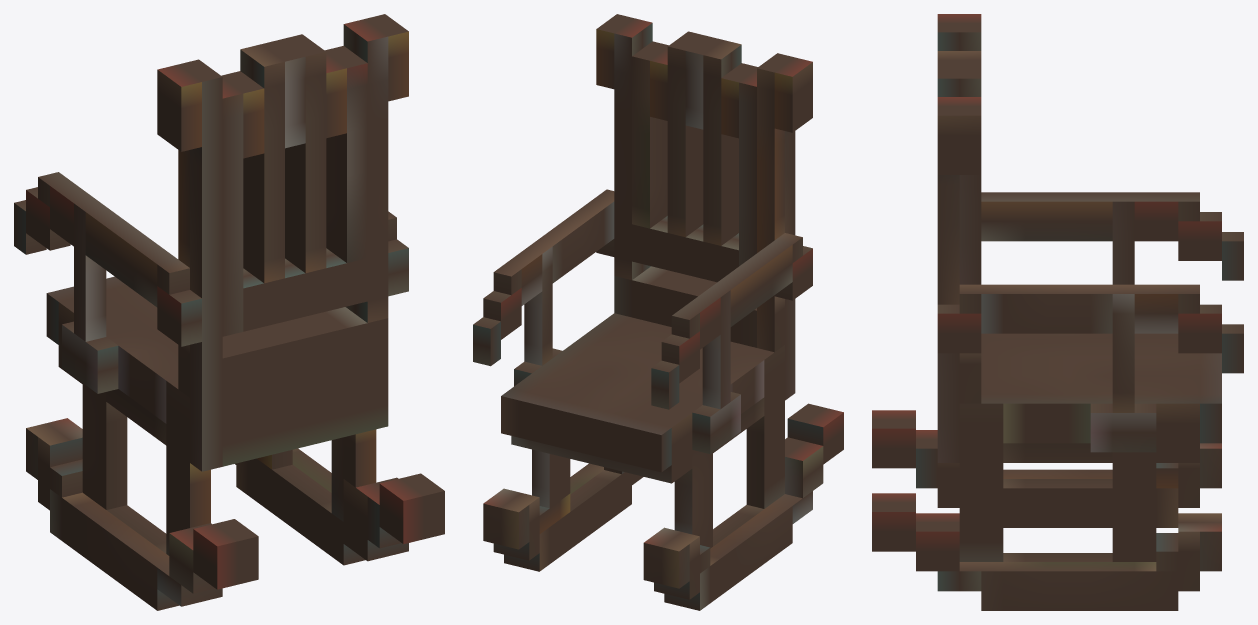
Rendered from RockingChair_00.obj.
The picture shows the model from 3 angles, left to right: view 1: azimuth 30°, elevation 25°; view 2: azimuth 150°, elevation 25°; view 3: azimuth 270°, elevation 25°; orthographic projection. The views are drawn at different scales.
Visible parts, largest first — view 1: RockingChair_00; view 2: RockingChair_00; view 3: RockingChair_00.
Boxes of the visible parts, left/top/right/bottom form: RockingChair_00: left=14, top=14, right=444, bottom=610; RockingChair_00: left=473, top=14, right=843, bottom=610; RockingChair_00: left=872, top=14, right=1243, bottom=610.
Bounding box in the file's own units: 0.55 × 1.25 × 0.85.
